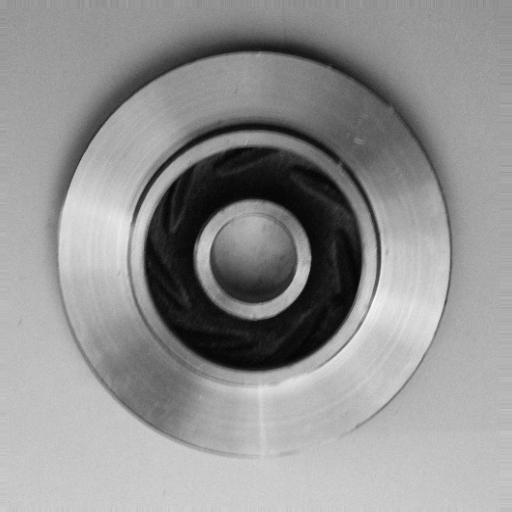unpolished_casting: (53, 48, 469, 464)
